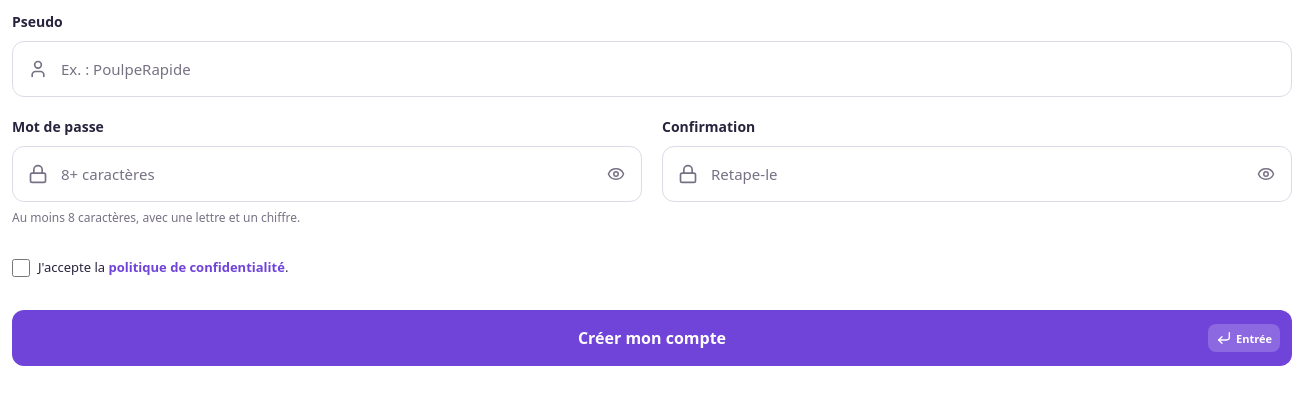
RegisterForm › conserve le pseudo et le consentement après une erreur, mais vide les mots de passe
Type "Alice_B" into the field labelled "Pseudo".
click(652, 69); type("Alice_B")  # box x1=12 y1=41 x2=1292 y2=97
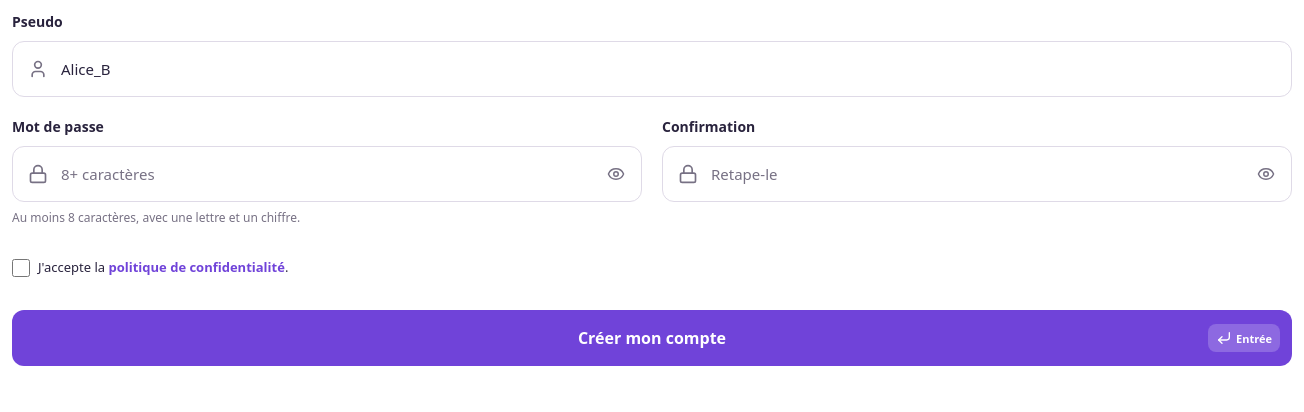
Type "correct-password1" into the password field labelled "Mot de passe".
click(327, 174); type("correct-password1")  # box x1=12 y1=146 x2=642 y2=202
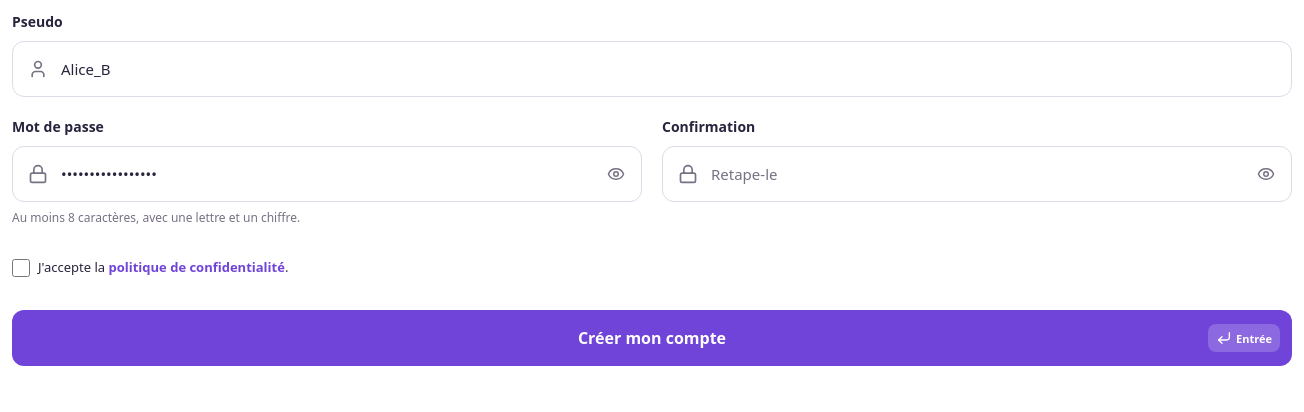
Type "correct-password2" into the password field labelled "Confirmation".
click(977, 174); type("correct-password2")  # box x1=662 y1=146 x2=1292 y2=202
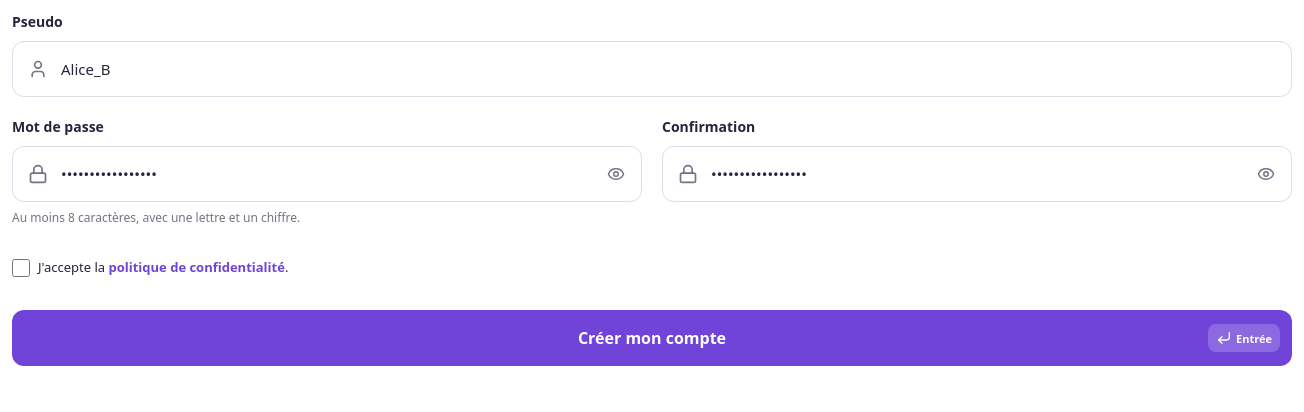
Click the checkbox.
click(21, 268)  # box x1=12 y1=259 x2=30 y2=277
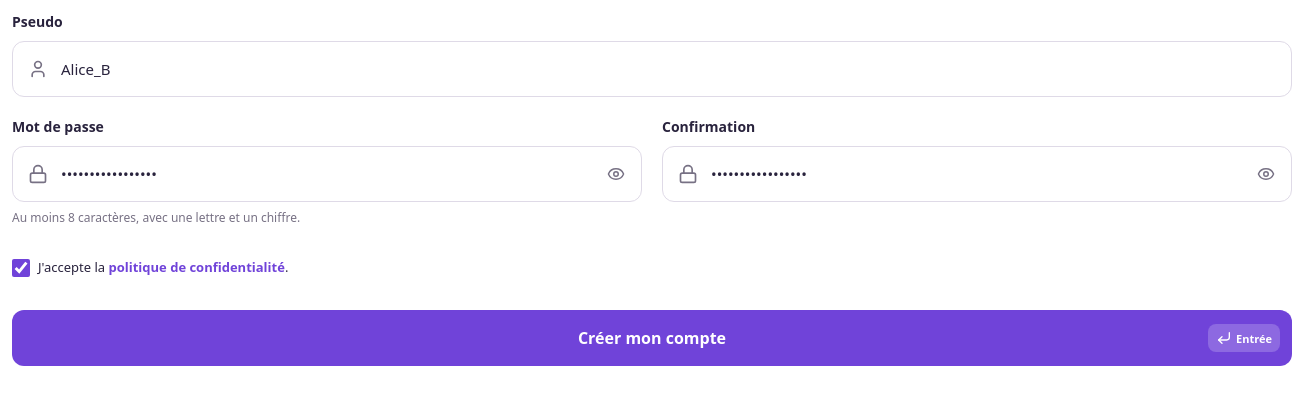
Submit the form
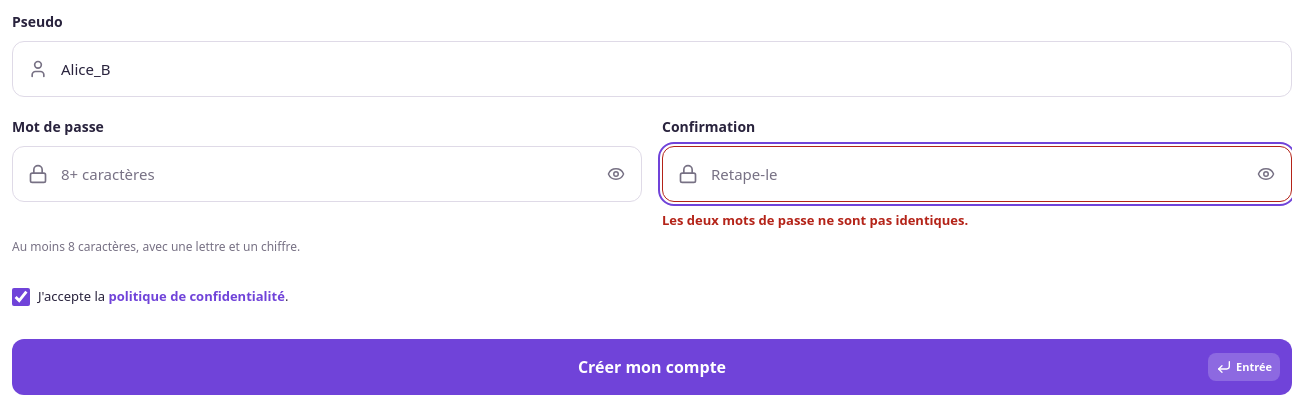
Expected: the checkbox is checked, x1=12 y1=288 x2=30 y2=306
Expected: the password field labelled "Mot de passe" is empty, x1=12 y1=146 x2=642 y2=202
Expected: the password field labelled "Confirmation" is empty, x1=662 y1=146 x2=1292 y2=202
